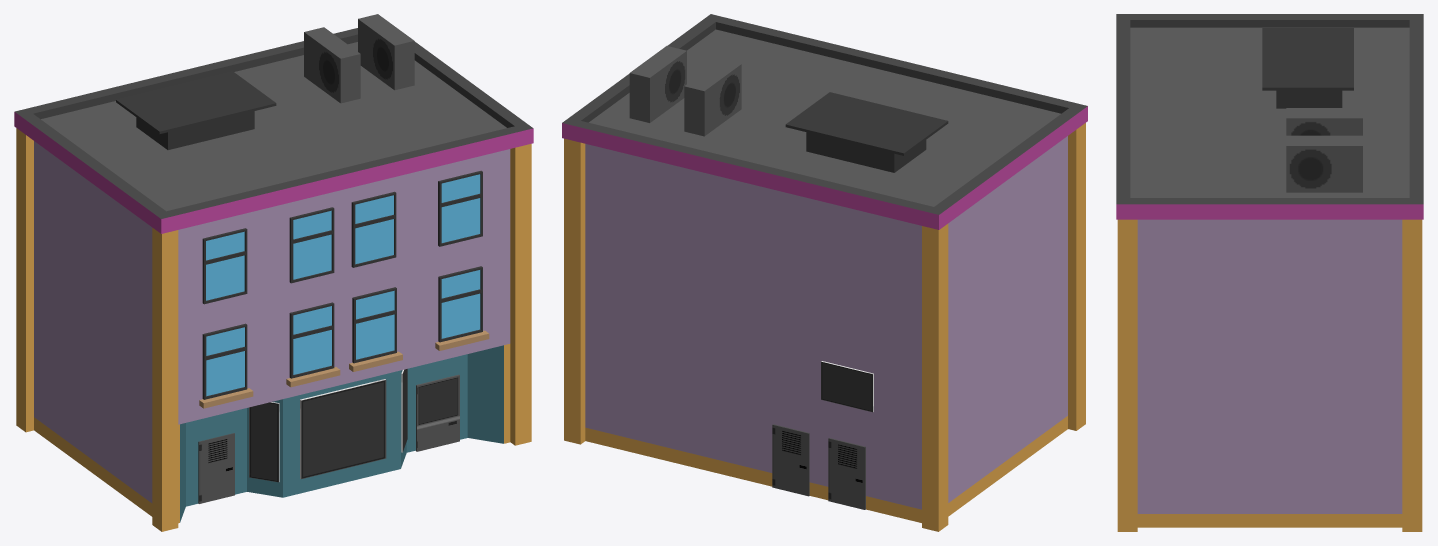
File: shop 2 B.FBX
3 renders of one model, left to right at view 1: azimuth 30°, elevation 25°; view 2: azimuth 150°, elevation 25°; view 3: azimuth 270°, elevation 25°, orthographic. The views are drawn at different scales.
Visible parts, largest first — view 1: polySurface15; view 2: polySurface15; view 3: polySurface15.
Boxes of the visible parts, <box> form: polySurface15: <box>14,14,533,531</box>; polySurface15: <box>562,14,1087,531</box>; polySurface15: <box>1116,14,1423,531</box>.
Bounding box in the file's own units: 201 × 181 × 137.
1 material, 1 textured.
